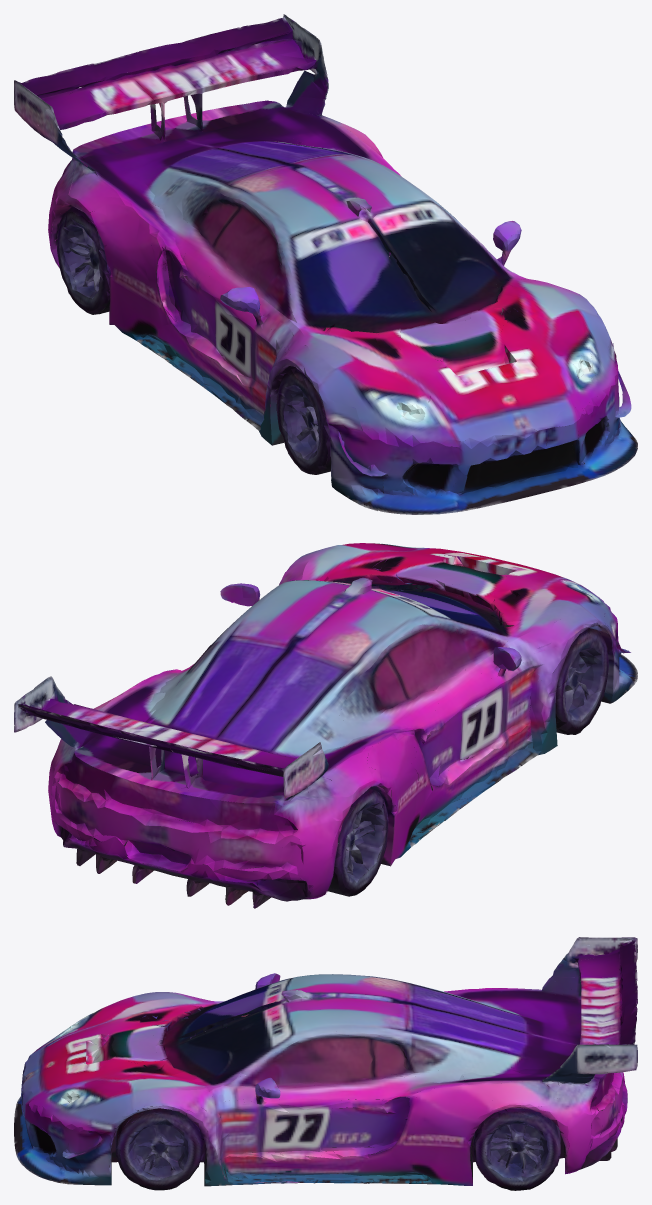
3 views of the same model, one above another, from view 1: azimuth 30°, elevation 25°; view 2: azimuth 150°, elevation 25°; view 3: azimuth 270°, elevation 25° (orthographic). The views are drawn at different scales.
Visible parts, largest first — view 1: body, panel_trunk, wheel_front_L, panel_door_L, panel_bumper_f, panel_roof, wheel_rear_L, panel_hood, wheel_front_R, panel_bumper_r; view 2: body, panel_trunk, wheel_rear_L, wheel_front_L, panel_roof, panel_door_L, panel_bumper_r, wheel_rear_R, panel_hood, panel_bumper_f; view 3: body, wheel_front_R, wheel_rear_R, panel_trunk, panel_door_R, panel_roof, panel_bumper_f, panel_hood, panel_bumper_r.
Part boxes in pixels (x1,y1,x2,y2): body: [57, 100, 637, 514]; panel_trunk: [14, 14, 401, 301]; wheel_front_L: [170, 251, 467, 510]; panel_door_L: [90, 204, 292, 414]; panel_bumper_f: [271, 310, 618, 493]; panel_roof: [172, 190, 521, 322]; wheel_rear_L: [48, 159, 213, 394]; panel_hood: [264, 239, 597, 393]; wheel_front_R: [501, 308, 633, 463]; panel_bumper_r: [51, 196, 106, 251]; body: [64, 543, 637, 905]; panel_trunk: [14, 673, 427, 831]; wheel_rear_L: [199, 765, 482, 908]; wheel_front_L: [414, 600, 636, 796]; panel_roof: [175, 577, 521, 731]; panel_door_L: [367, 641, 563, 865]; panel_bumper_r: [52, 765, 391, 887]; wheel_rear_R: [48, 739, 131, 865]; panel_hood: [300, 555, 604, 675]; panel_bumper_f: [396, 555, 615, 676]; body: [14, 974, 627, 1186]; wheel_front_R: [32, 1094, 390, 1190]; wheel_rear_R: [231, 1079, 622, 1190]; panel_trunk: [418, 937, 637, 1114]; panel_door_R: [223, 1085, 497, 1185]; panel_roof: [224, 973, 457, 1098]; panel_bumper_f: [21, 1008, 201, 1166]; panel_hood: [75, 1005, 263, 1132]; panel_bumper_r: [471, 1072, 627, 1137].
Bounding box in the file's own units: 1.79 × 1.03 × 4.
Materials: 1 (1 with a texture image).
